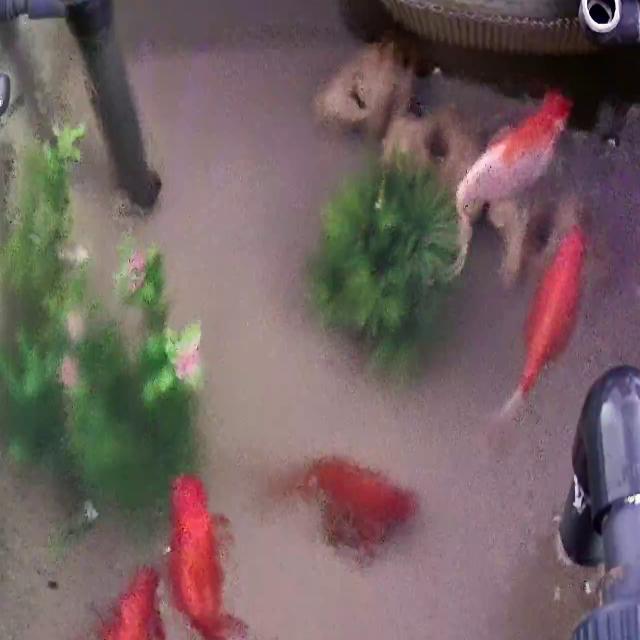fish: (497, 222, 588, 416), (454, 90, 574, 230), (166, 472, 238, 640), (301, 456, 410, 559), (40, 561, 166, 640)
